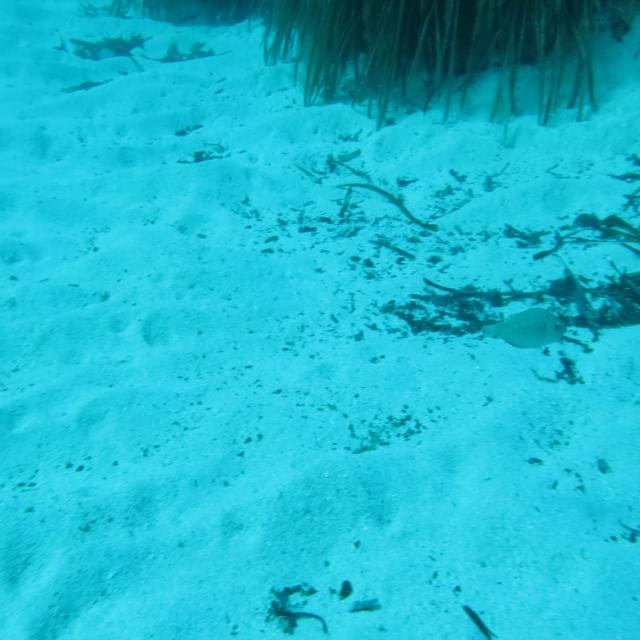SA: (478, 303, 569, 356)
vegetation: (249, 0, 603, 109), (550, 274, 640, 329)
